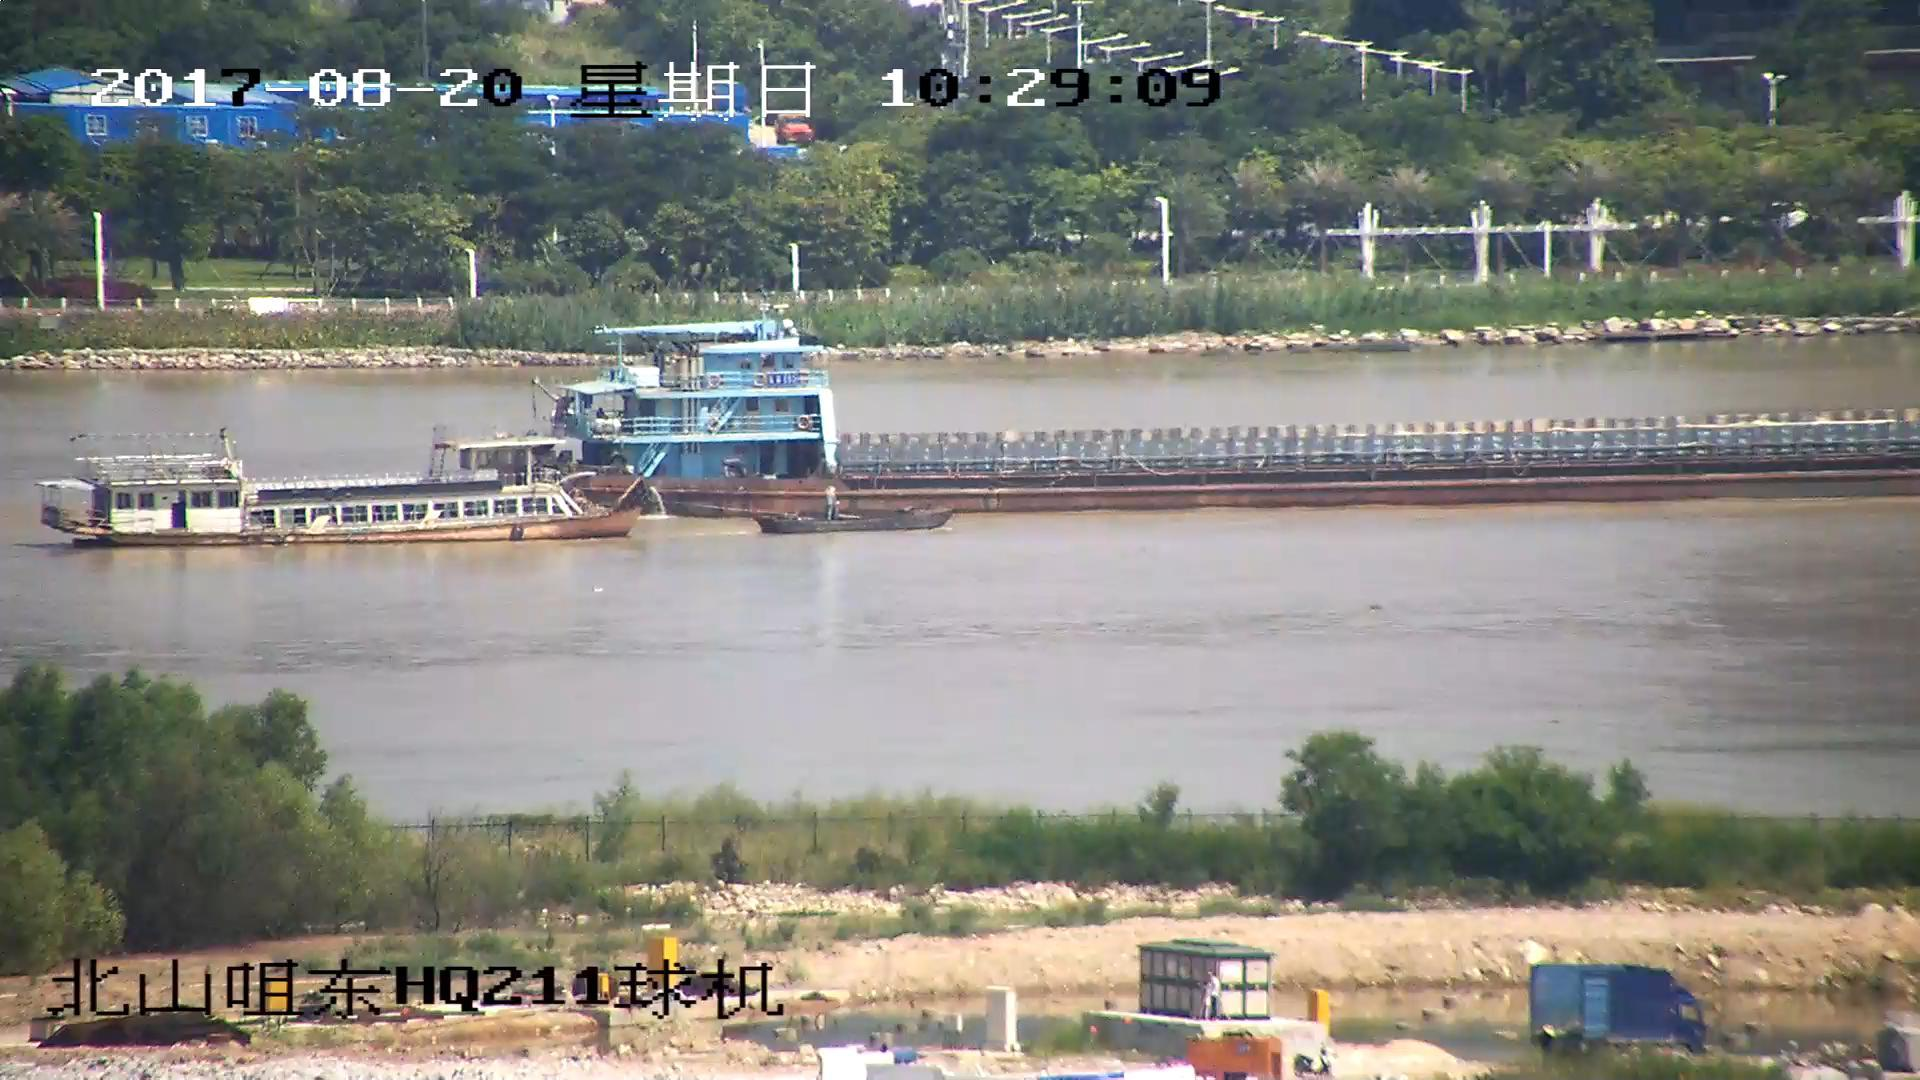Ship: (456, 323, 1920, 512), (41, 423, 647, 547), (754, 489, 953, 534)
